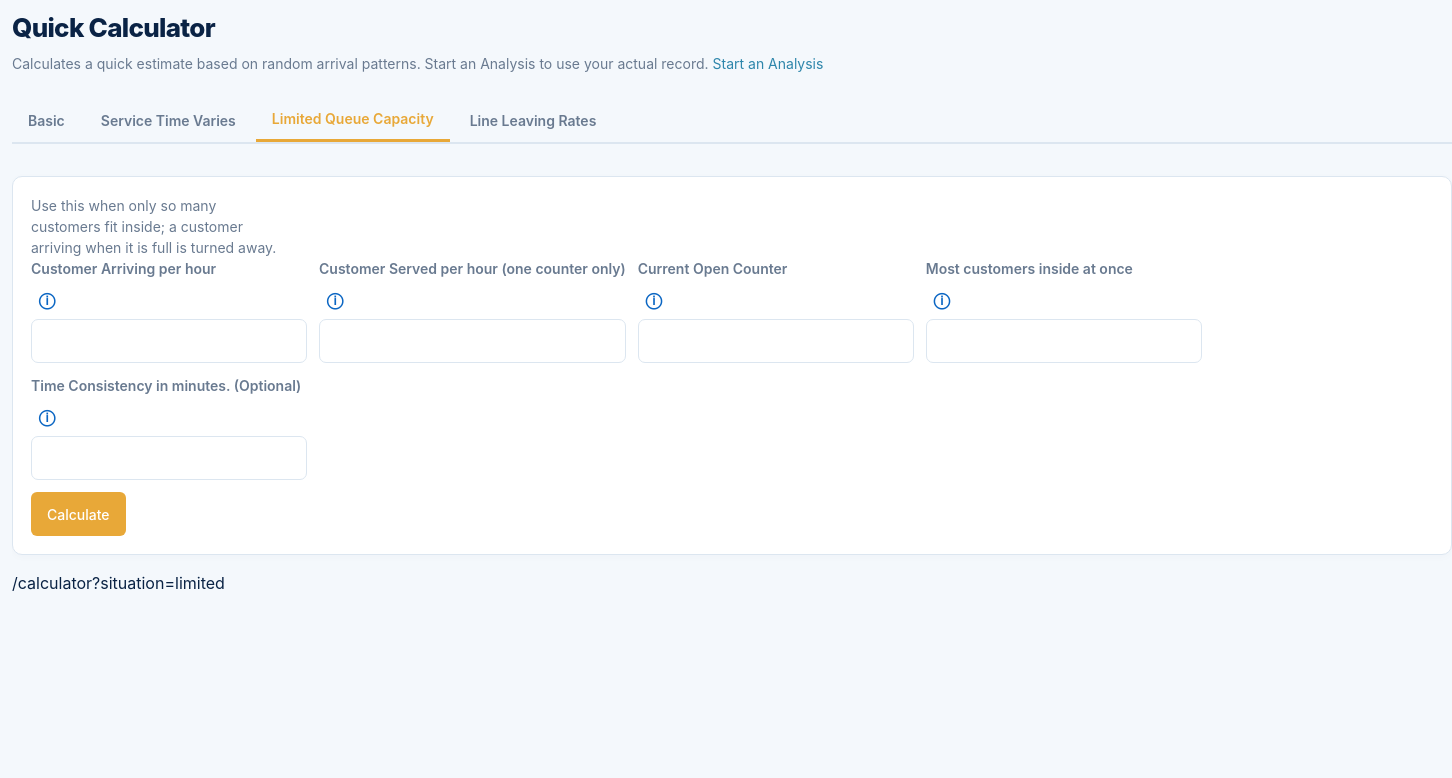
it: Quick calculator (U9 + B2) › keeps the ordinary wait meaning for limited service
In the number field labelled "Customer Arriving per hour": x=169, y=341 [31,319,307,363], type "2"
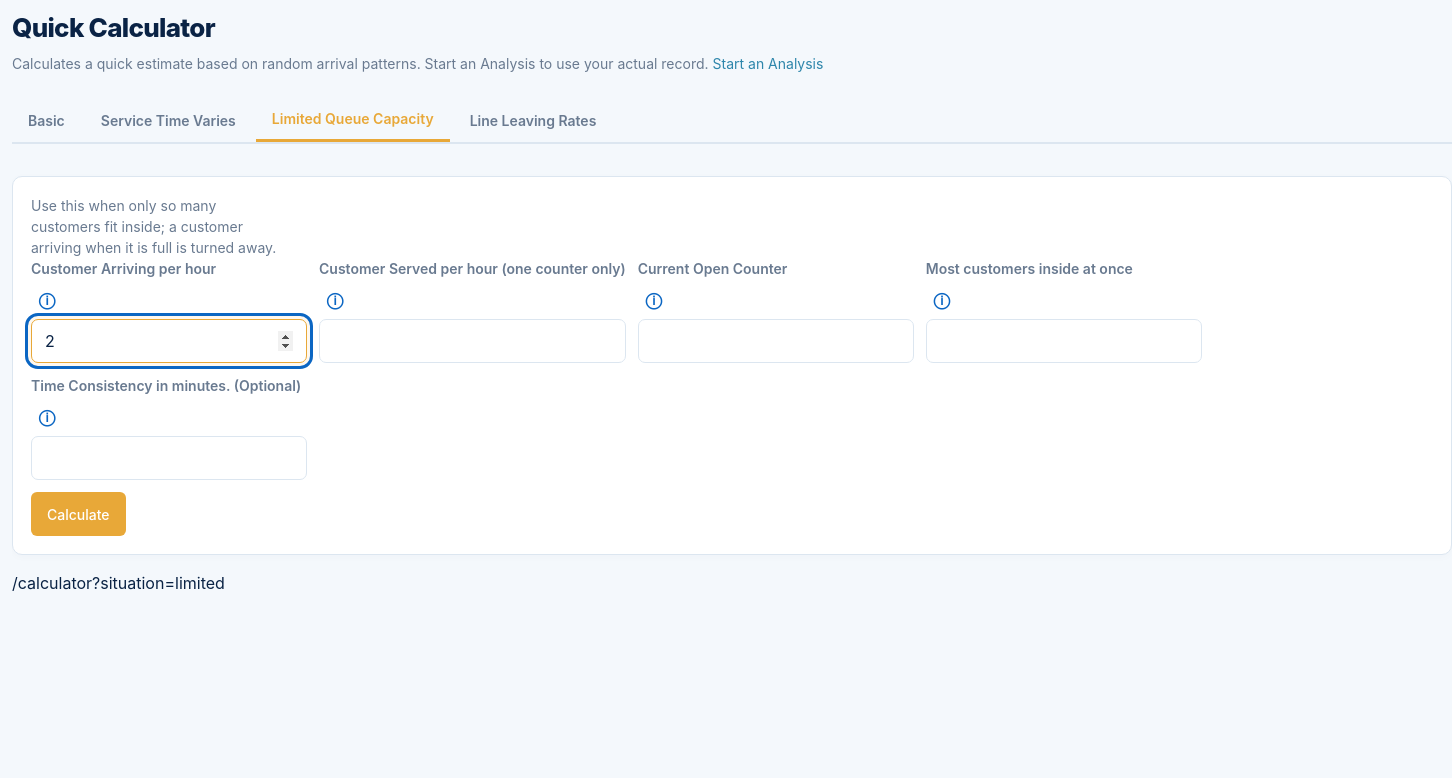
In the number field labelled "Customer Served per hour (one counter only)": x=472, y=341 [319,319,626,363], type "4"
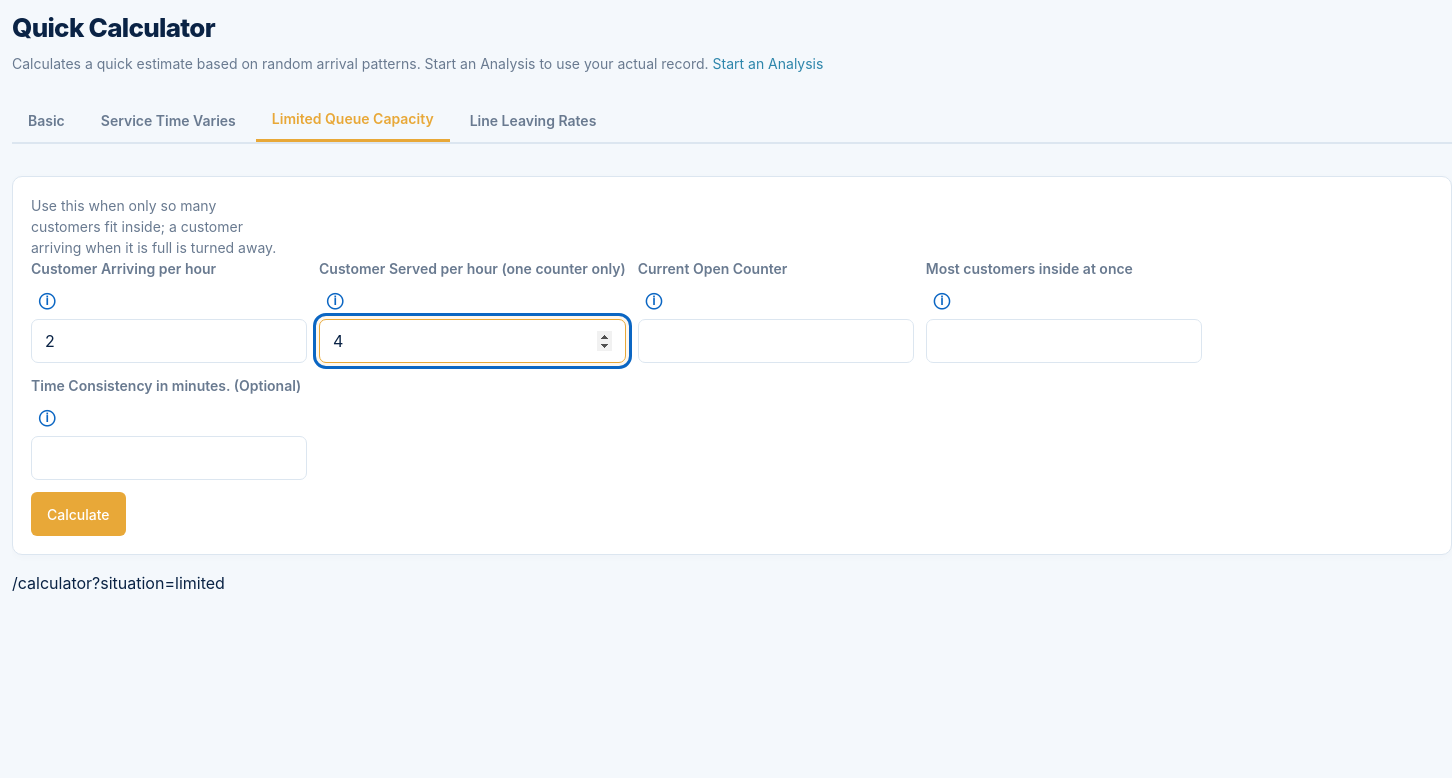
In the number field labelled "Current Open Counter": x=776, y=341 [638,319,914,363], type "1"
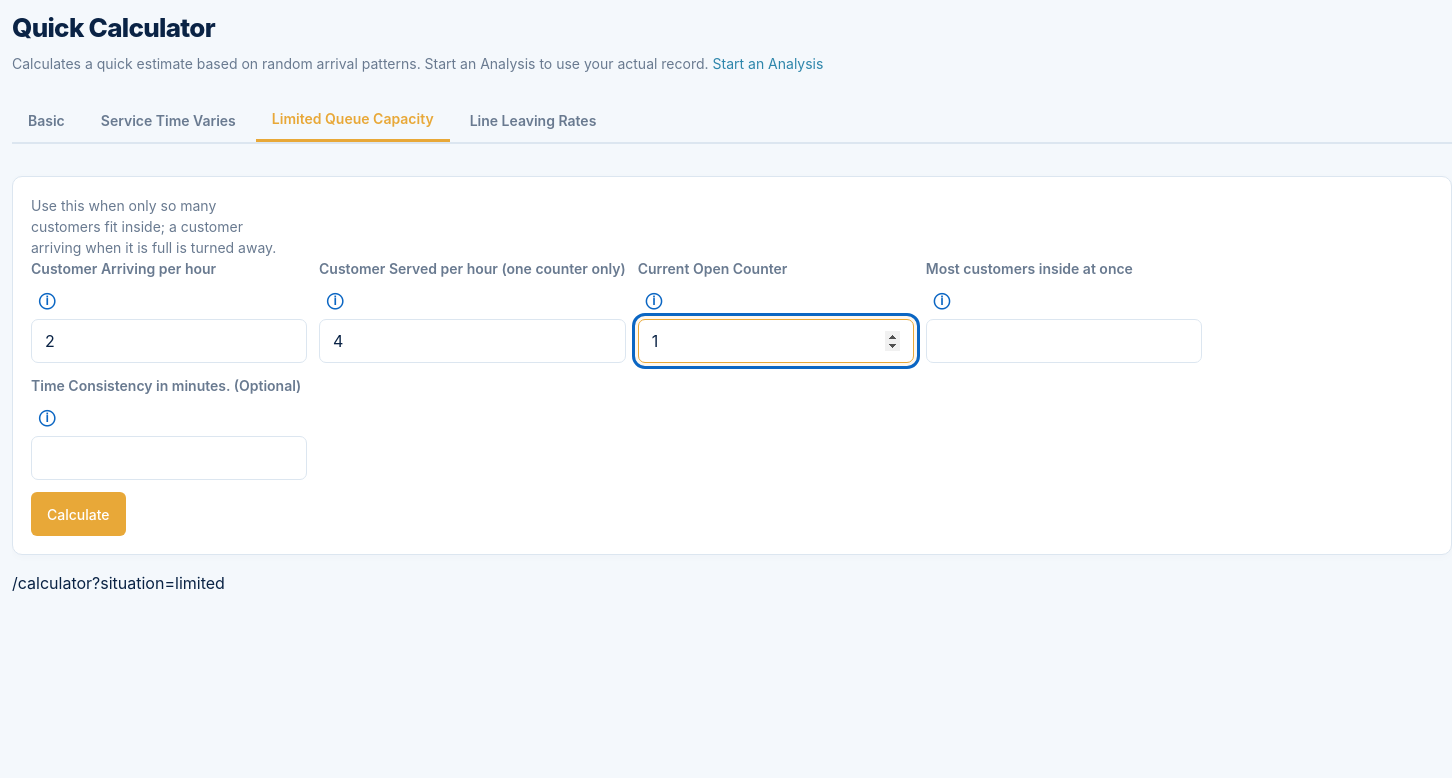
In the number field labelled "Most customers inside at once": x=1064, y=341 [926,319,1202,363], type "1"
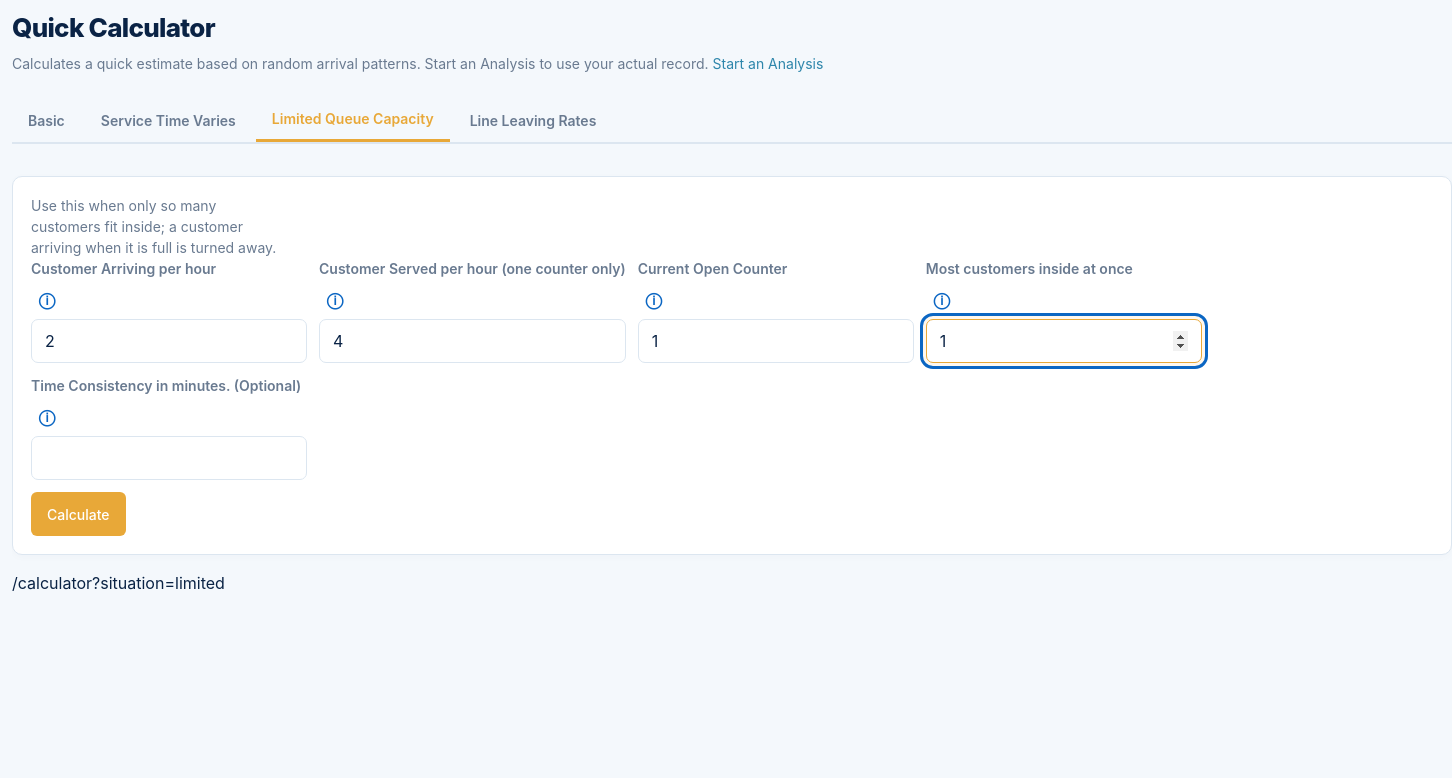
Click the button "Calculate": x=78, y=514 [31,492,126,536]
(page scrolled)
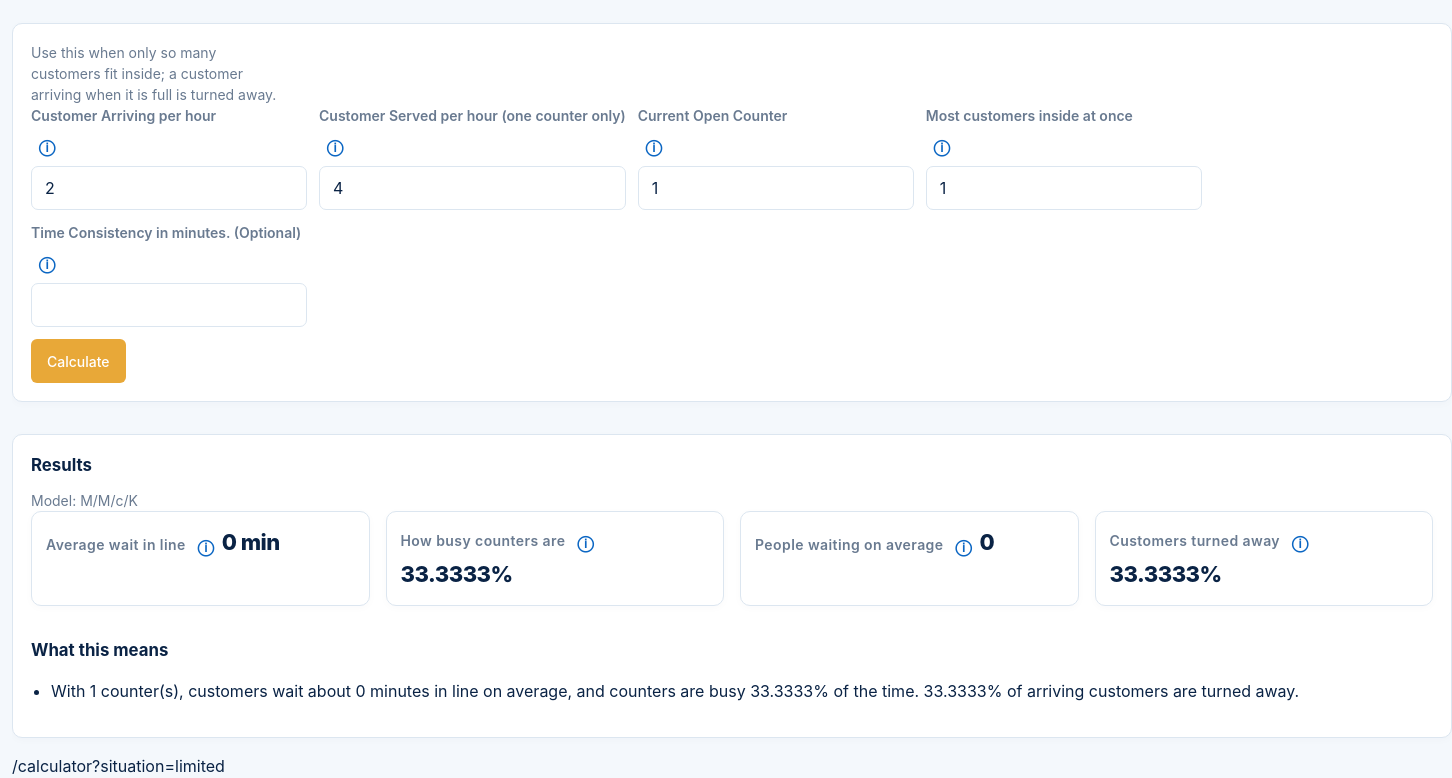
Check: the list with test id "calculator-meaning" does not show "workload", box [31,679,1433,703]
Check: the element with test id "calculator-wait" shows "Average wait in line", box [46,536,186,553]
Check: the element with test id "calculator-wait" shows "0 min", box [222,529,280,555]
